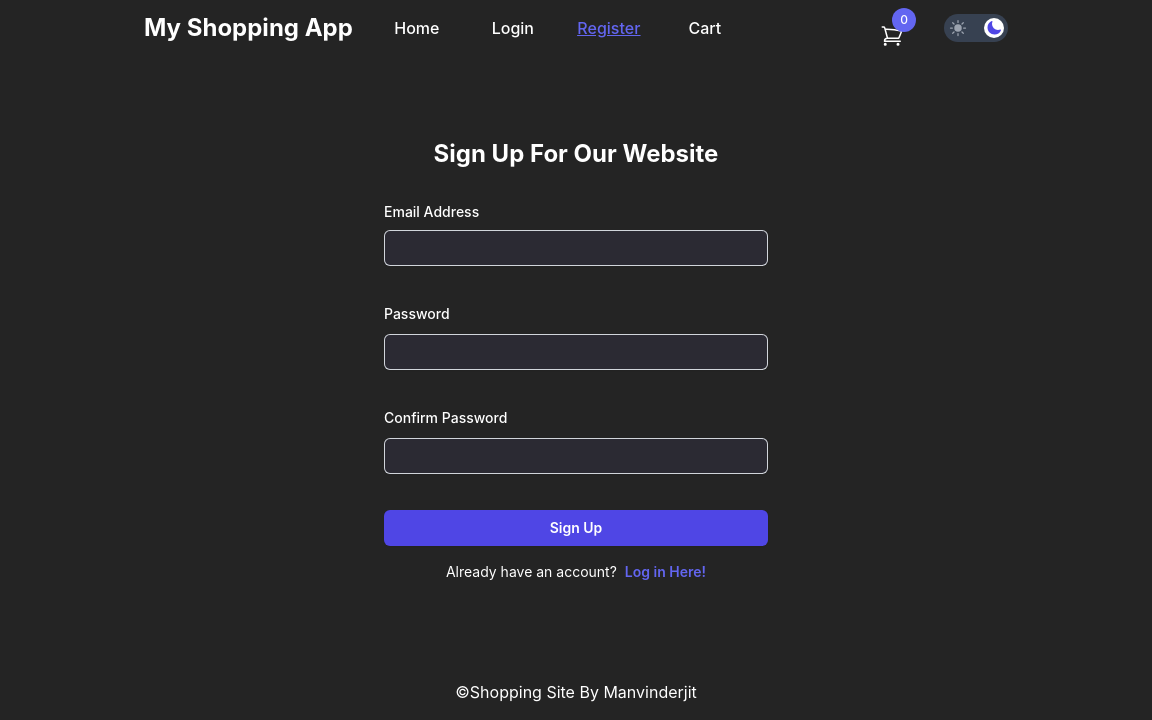
should render validation errors › should render 'Email can not be empty' error if userEmail is deleted after entering
This screenshot has width=1152, height=720.
expect the element named "Error for User Email" is empty: met, box x1=384 y1=266 x2=768 y2=290
Action: Enter email address and remove it
Type "email@abc.com" into the field labelled "Email Address" at [576, 248], box x1=384 y1=230 x2=768 y2=266
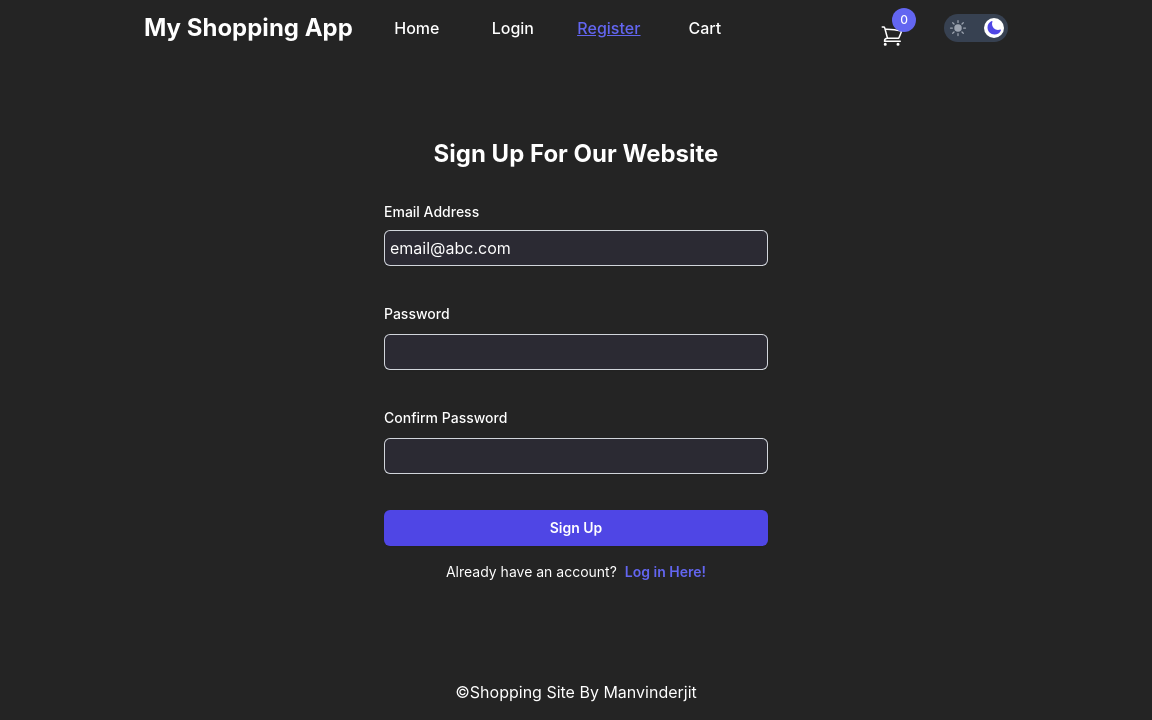
expect the element named "Error for User Email" is empty: met, box x1=384 y1=266 x2=768 y2=290
Clear the field labelled "Email Address" at [576, 248], box x1=384 y1=230 x2=768 y2=266
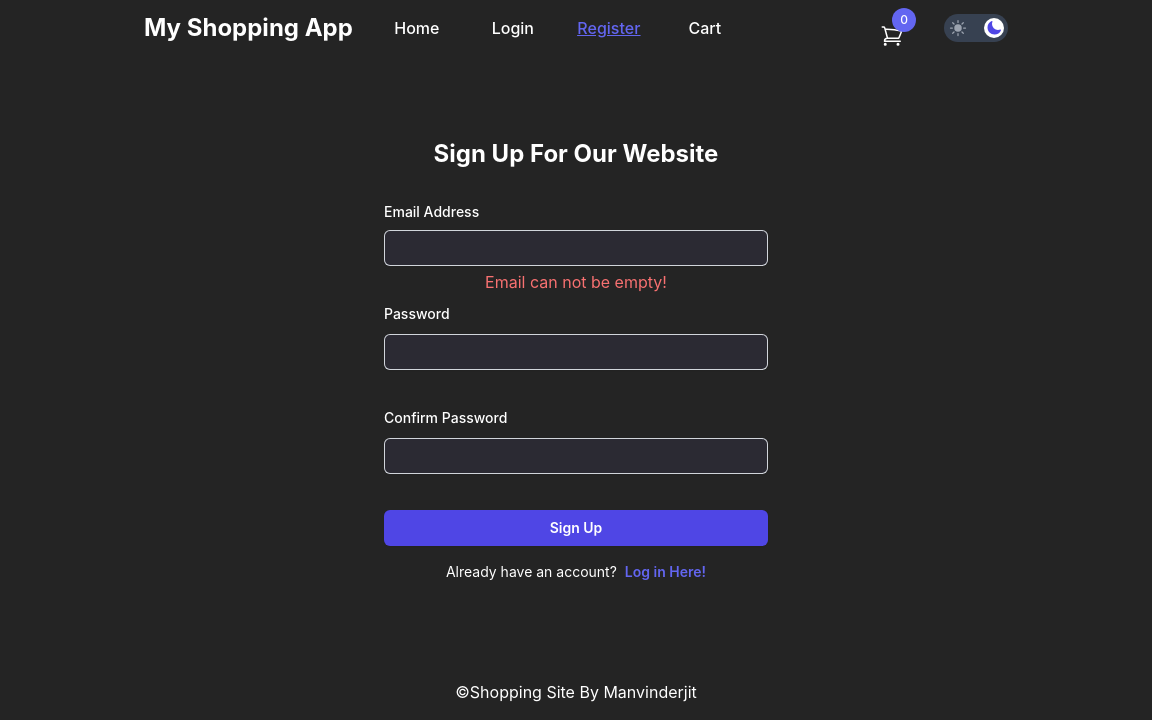
expect the text named "Error for User Email" reads "Email can not be empty!": met, box x1=485 y1=272 x2=667 y2=292
